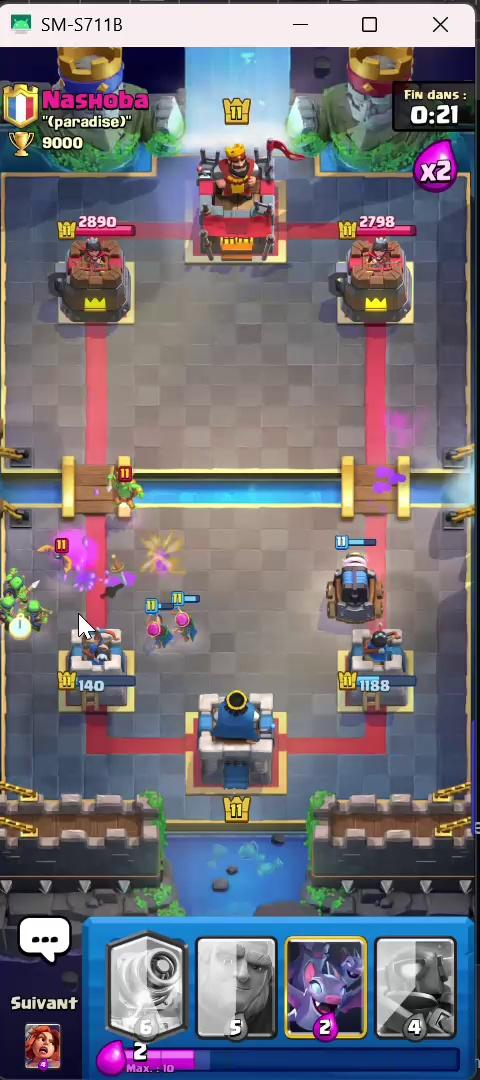archere: (128, 593, 170, 663), (176, 589, 193, 658)
bat: (37, 537, 78, 581)
gobelin_lances: (102, 469, 146, 519), (0, 589, 22, 640), (22, 595, 55, 627), (11, 558, 32, 601)
zappy: (288, 541, 406, 622)
